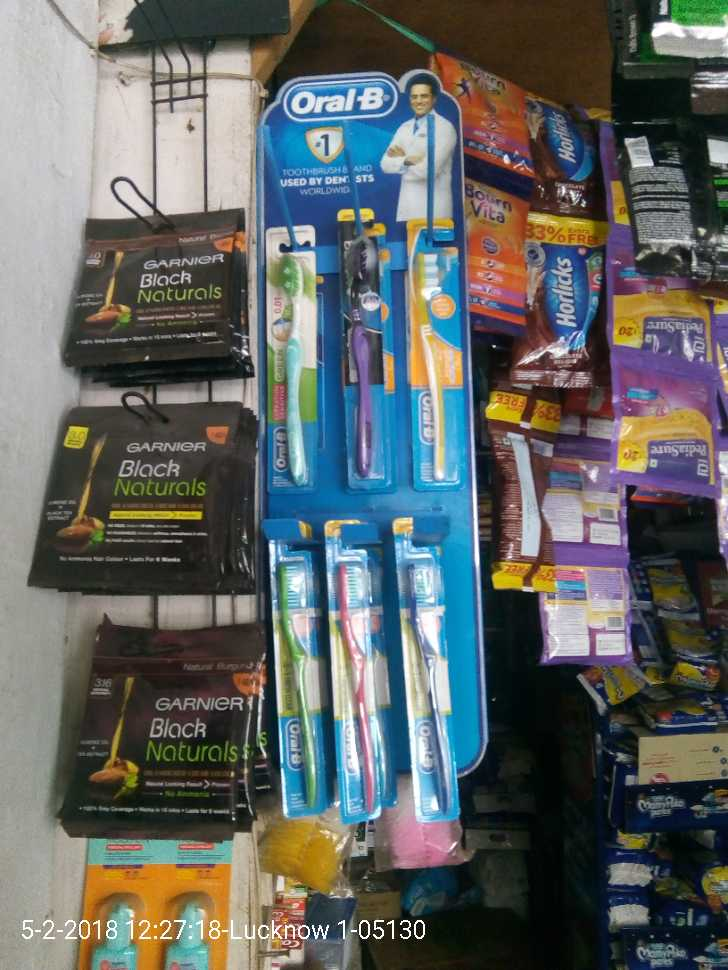oralb: (391, 517, 458, 819), (323, 516, 388, 817), (264, 518, 325, 813), (404, 215, 469, 490), (337, 205, 395, 492), (264, 226, 320, 492)
